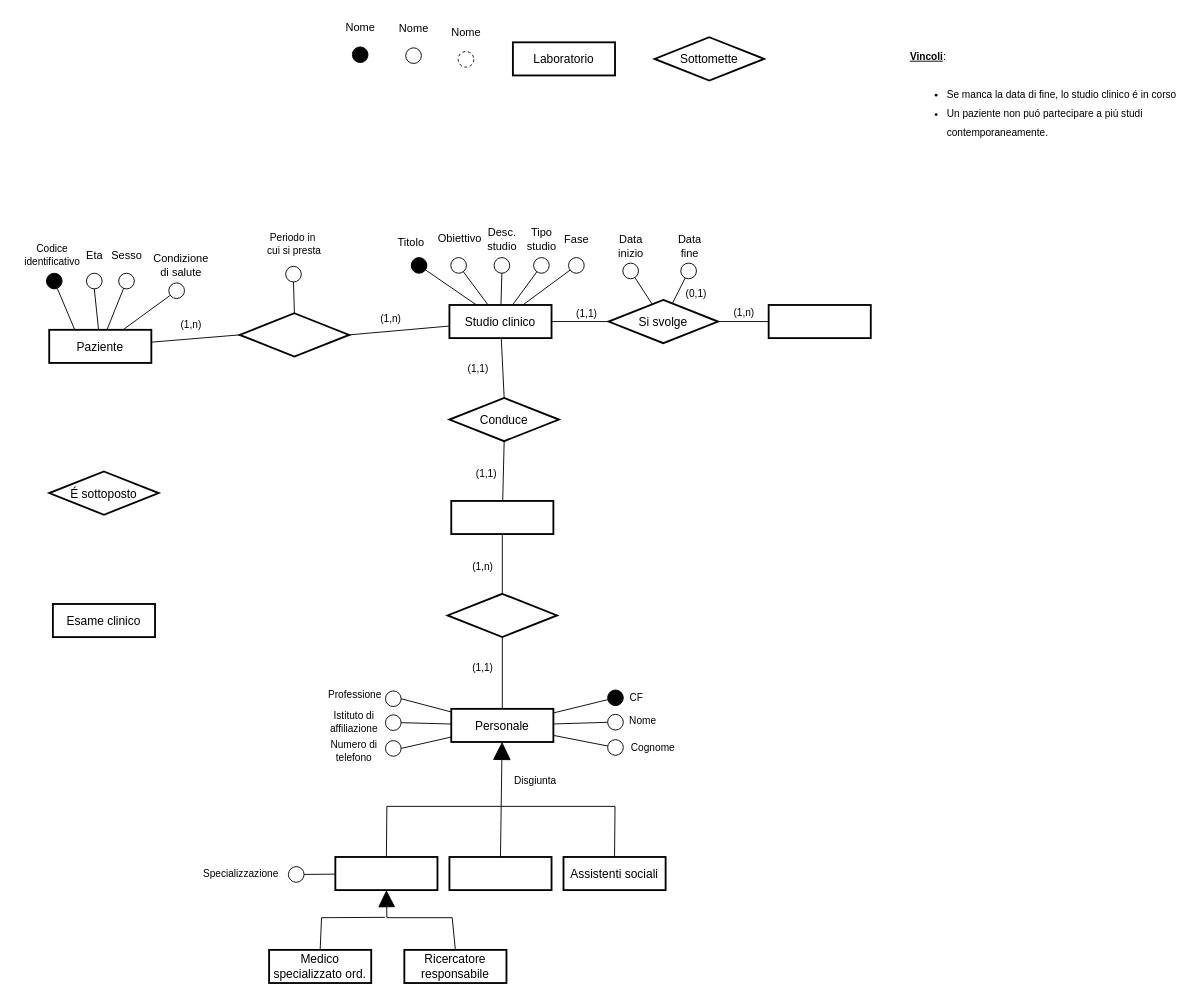
This 1202x999 diagram has some shape labels left out. Here are the shapes that lost their labels. From the top down, the centre of each, then its label:
At pixel 294 334: "Si presta".
At pixel 819 321: "Istituto".
At pixel 502 517: "Gruppo di ricerca".
At pixel 502 615: "Composto da".
At pixel 386 873: "Medici specializzati".
At pixel 500 873: "Personale infermieristico".
